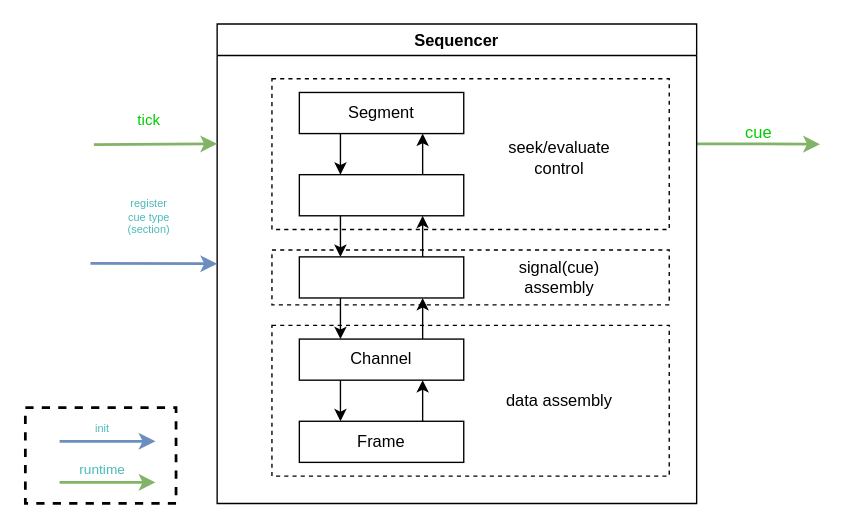
The diagram is 855 pixels wide and 529 high, and some of its shapes have lost their labels. Here are the shapes that lost their labels. From the top down, the centre of each, then its label:
At [381,194]: "Track".
At [381,277]: "Section".
